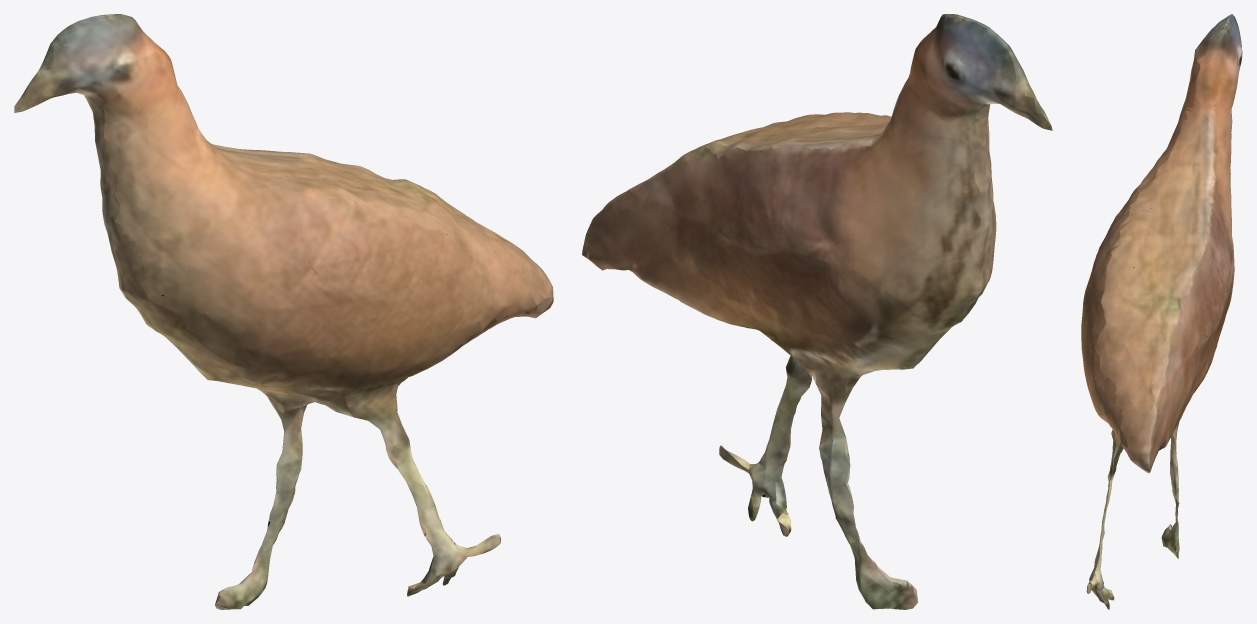
The picture shows the model from 3 angles, left to right: view 1: azimuth 30°, elevation 25°; view 2: azimuth 150°, elevation 25°; view 3: azimuth 270°, elevation 25°; orthographic projection. The views are drawn at different scales.
Visible parts, largest first — view 1: world; view 2: world; view 3: world.
Part boxes in pixels (x1,y1,x2,y2): world: [14, 14, 553, 609]; world: [582, 14, 1052, 609]; world: [1081, 14, 1242, 609].
Size of the model in its own units: 0.4082 by 0.4783 by 0.1428.
Materials: 1 (1 with a texture image).
